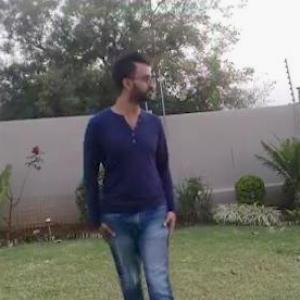follow: (80, 41, 188, 299)
